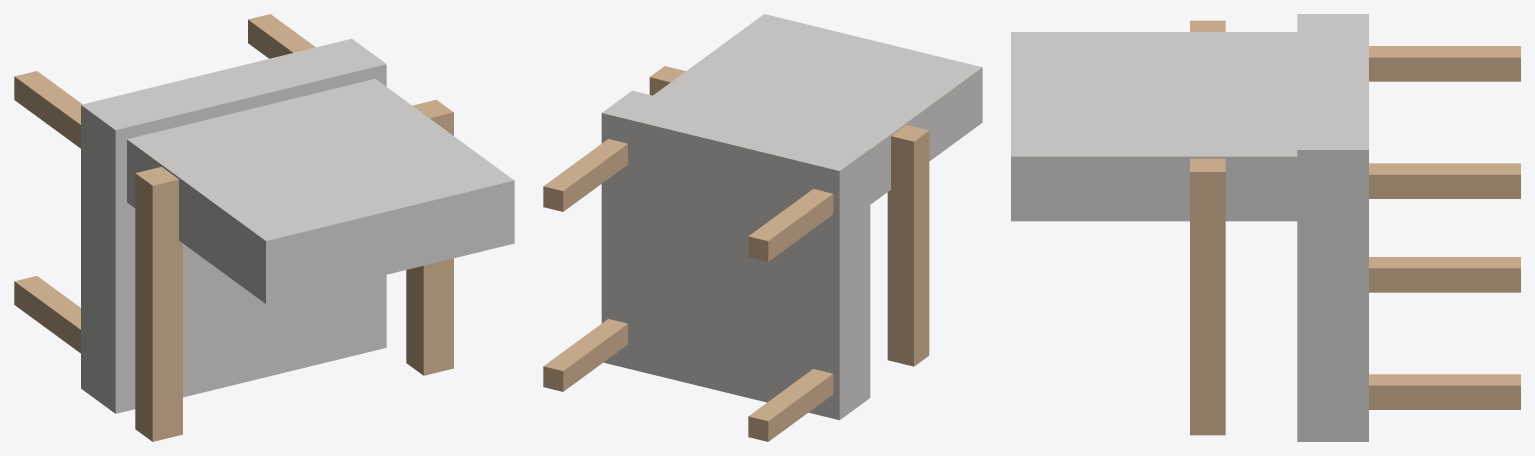
File: lounge_chair.glb
3 views of the same model, side by side, from view 1: azimuth 30°, elevation 25°; view 2: azimuth 150°, elevation 25°; view 3: azimuth 270°, elevation 25° (orthographic). The views are drawn at different scales.
Parts seen in each view (by area): view 1: world; view 2: world; view 3: world.
Part boxes in pixels (<box>): world: <box>14,14,514,441</box>; world: <box>543,14,982,441</box>; world: <box>1011,14,1520,441</box>.
Bounding box in the file's own units: 0.8 × 0.72 × 1.14.
